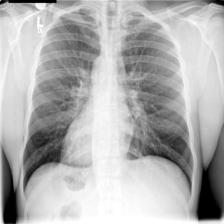normal: (19, 5, 196, 207)
